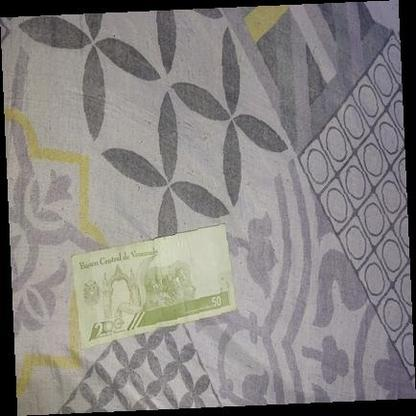fifty-back-vef: (70, 222, 238, 350)
